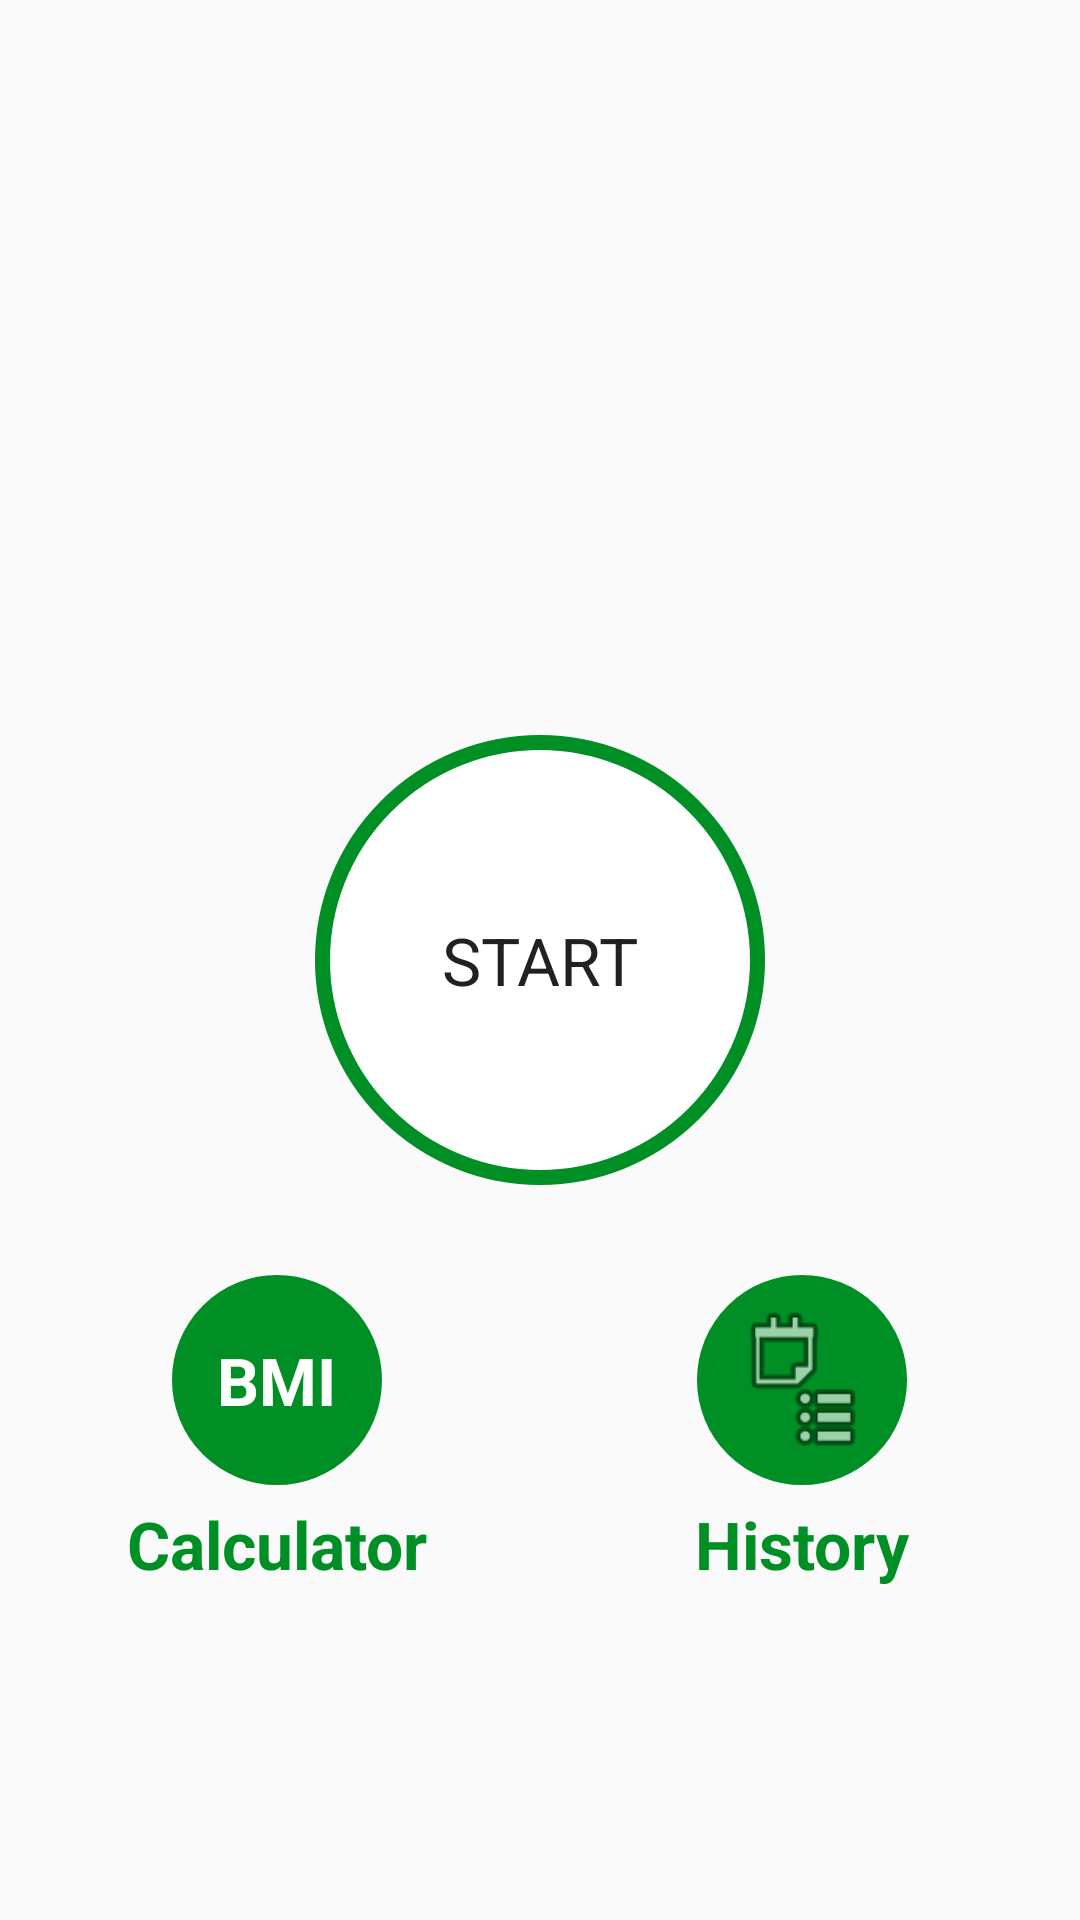

Icons on this 1080w x 1920h Android screen, each with the point to tap as (x=x, y=y):
agenda: (x=802, y=1379)
